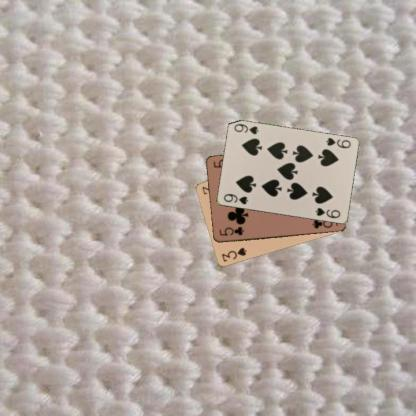3s: (219, 245, 248, 263)
5c: (216, 224, 246, 236)
9s: (220, 191, 250, 206), (323, 135, 352, 150)
